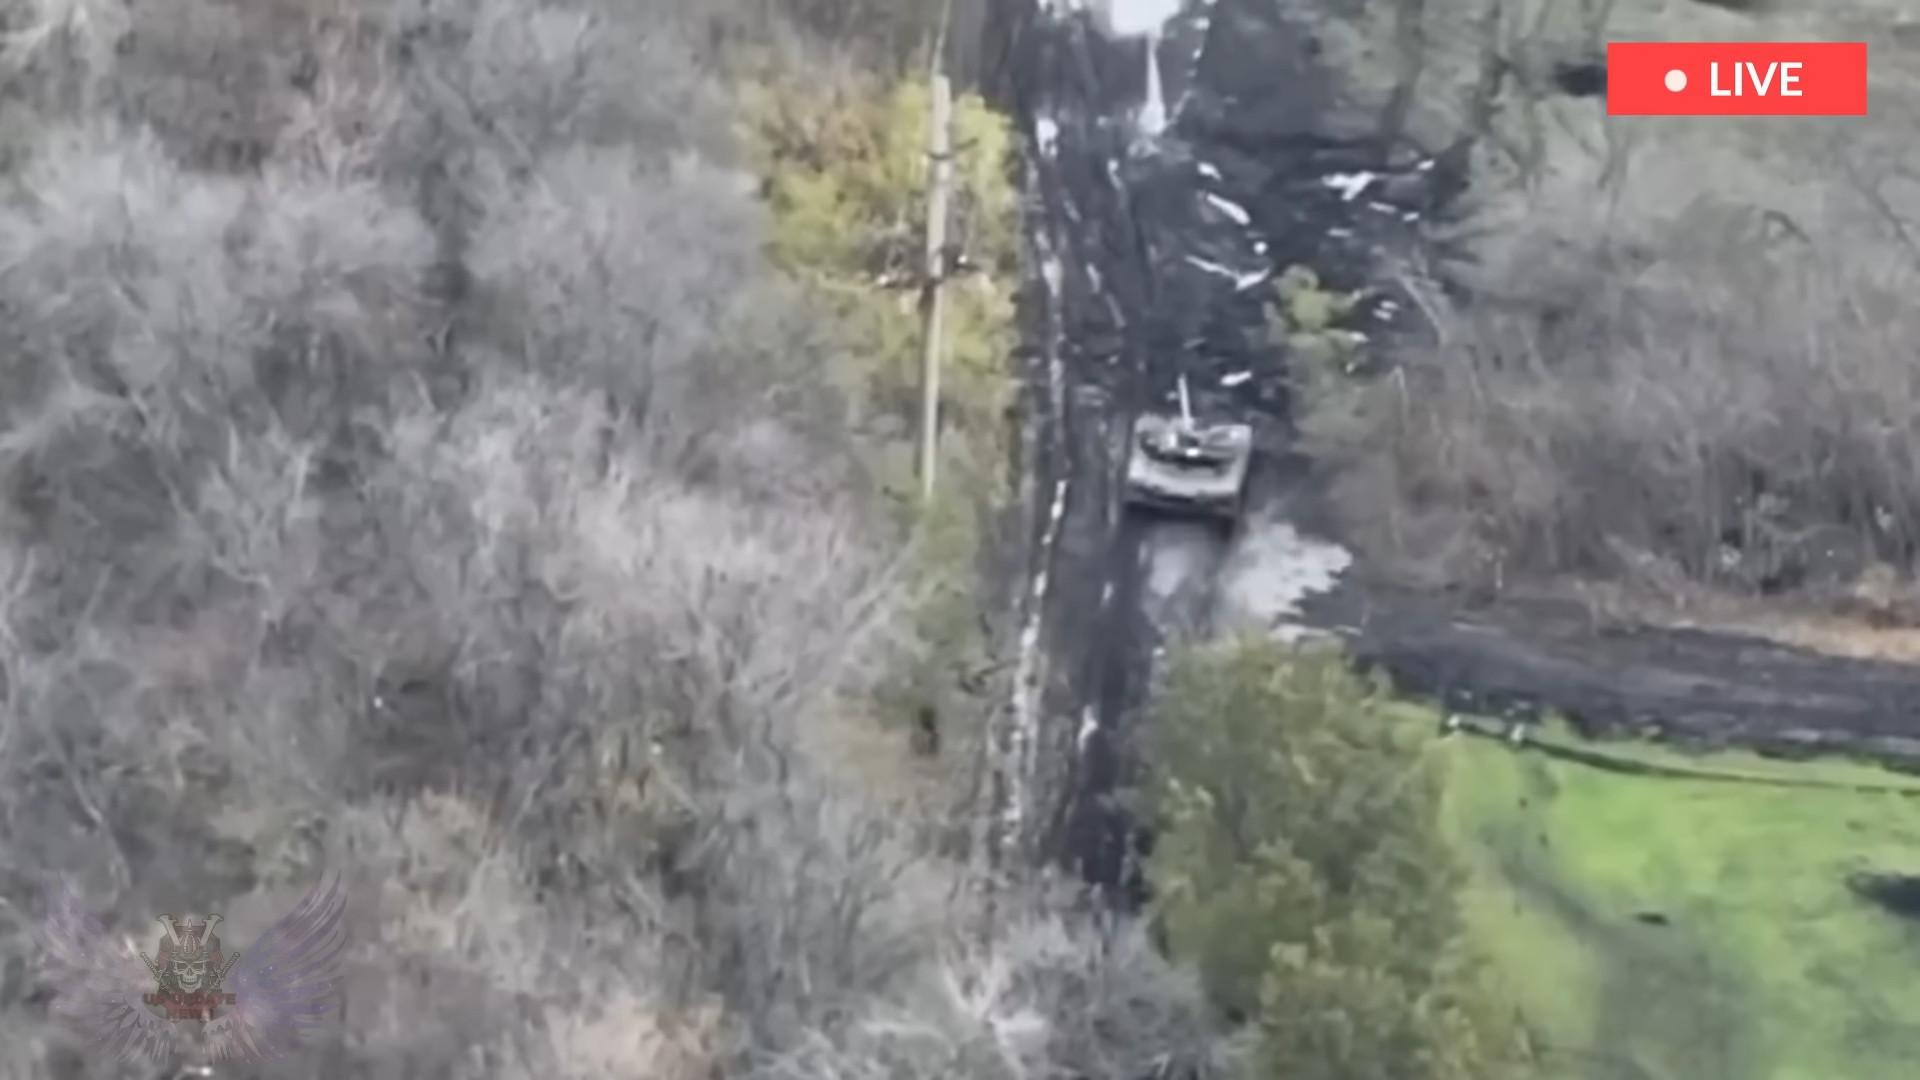tank: (1121, 372, 1254, 527)
